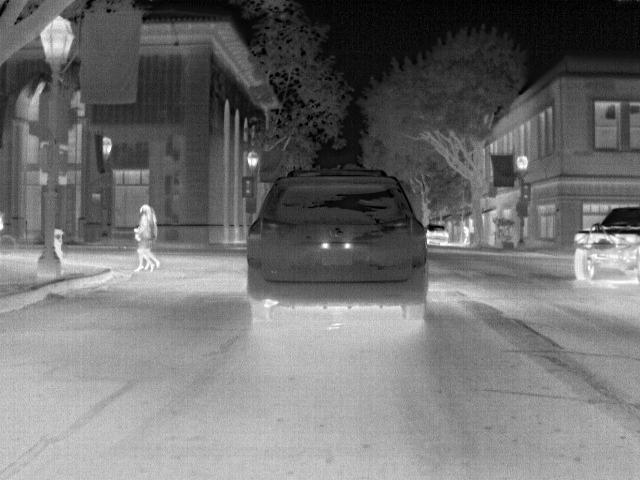car: (247, 166, 427, 327), (570, 206, 640, 285), (424, 222, 451, 243)
person: (134, 204, 161, 270)
